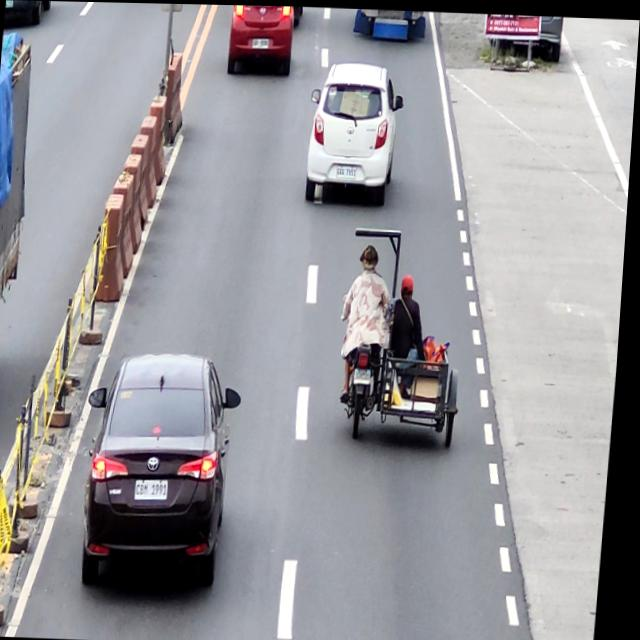Car: (79, 348, 251, 592), (304, 57, 408, 207), (225, 4, 296, 75)
License-Plate: (140, 477, 175, 499), (337, 163, 359, 177), (356, 366, 376, 381), (251, 36, 268, 48)
Tricycle: (338, 222, 477, 447)
